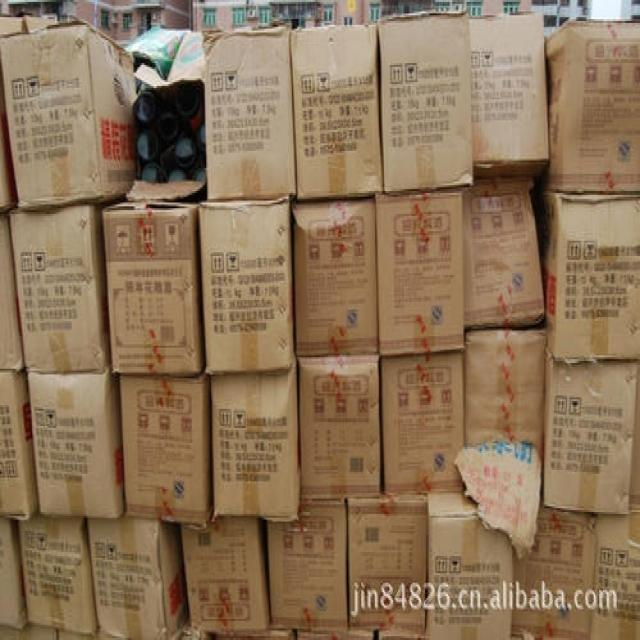box: (0, 22, 137, 212), (101, 200, 206, 376), (535, 21, 639, 192), (377, 8, 473, 193), (8, 203, 113, 372), (534, 193, 639, 361), (199, 198, 295, 375), (202, 25, 296, 201), (291, 23, 384, 198), (543, 347, 637, 515), (27, 365, 125, 520), (120, 372, 213, 531), (211, 357, 300, 523), (377, 192, 463, 355), (292, 197, 379, 355), (472, 14, 549, 183), (426, 492, 512, 638), (88, 517, 190, 638), (464, 178, 545, 330), (381, 352, 465, 494), (297, 357, 380, 499), (512, 506, 597, 638), (348, 492, 427, 634), (267, 497, 349, 632), (465, 328, 547, 462), (180, 512, 270, 632), (17, 510, 99, 636), (454, 443, 542, 557), (591, 512, 639, 638), (0, 367, 39, 520), (0, 213, 25, 372), (0, 517, 27, 630), (0, 63, 17, 211)
